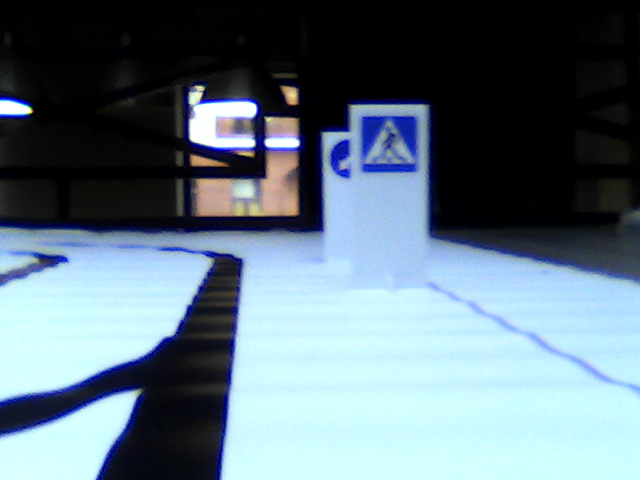pesh: (361, 119, 417, 169)
